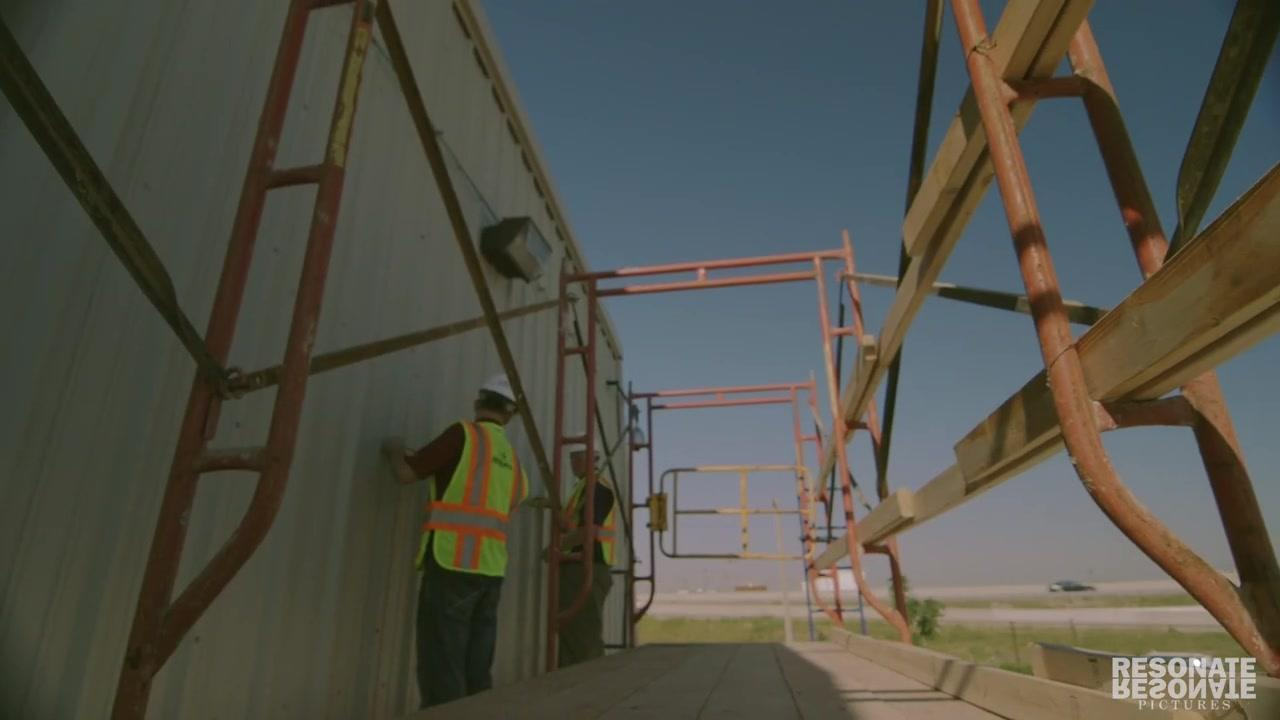vest: (420, 418, 532, 581), (556, 480, 618, 568)
